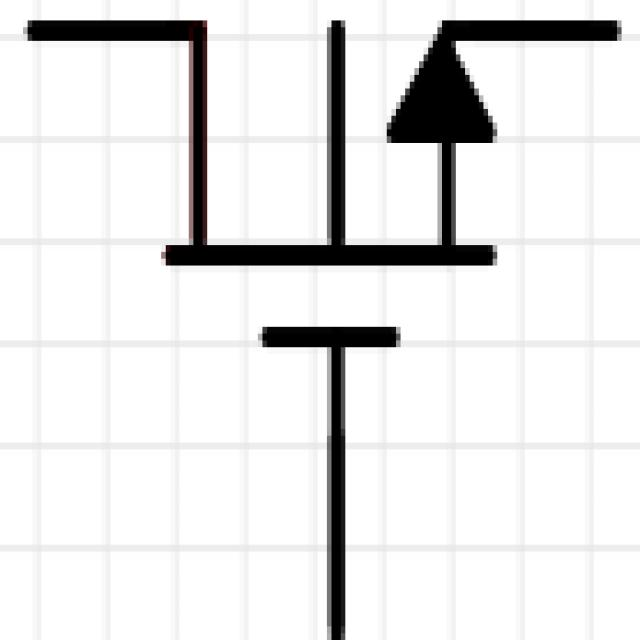pmos: (29, 0, 601, 625)
